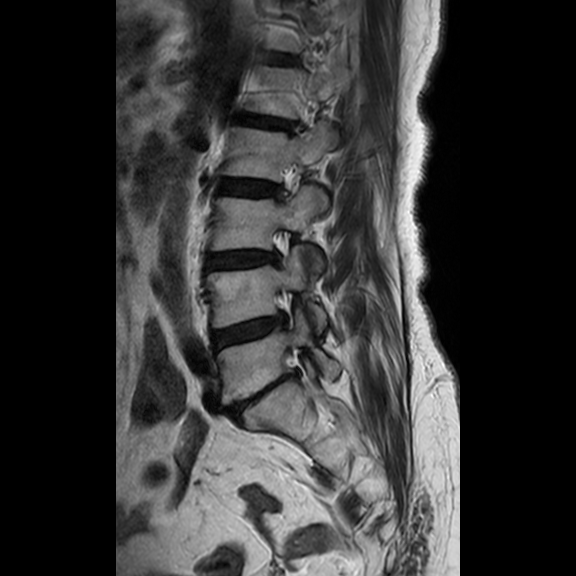LFS0: (261, 280, 311, 338), (261, 216, 302, 275)
